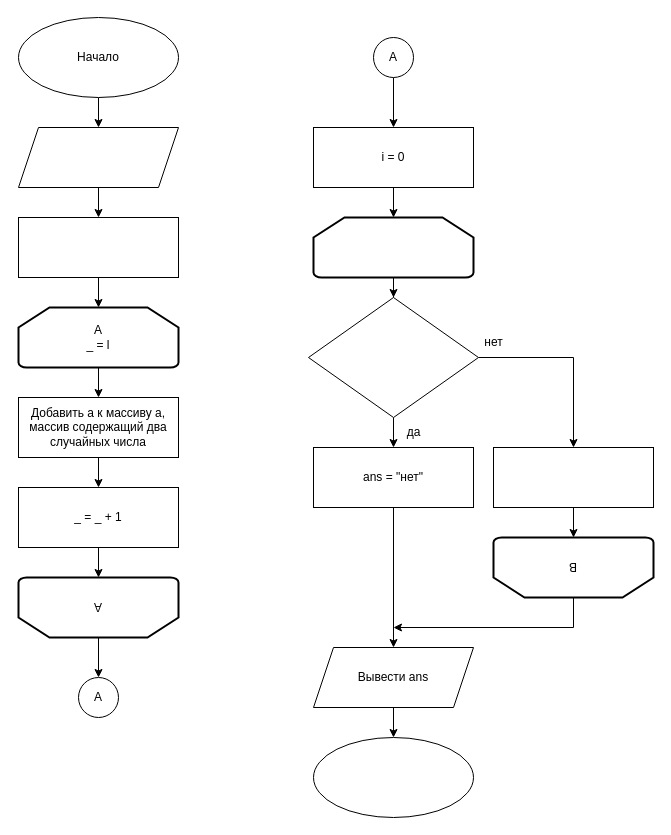
This 671x835 diagram has some shape labels left out. The centre of each missing label's shape, as x and y in pixels:
a[i][0]** 2 != a[i][ 1 ]: [393,357]
ans = "Да" a = [] _ = 0: [98,247]
B i = l: [393,247]
i = i + 1: [573,477]
Ввод числа l: [98,157]
Конец: [393,777]
